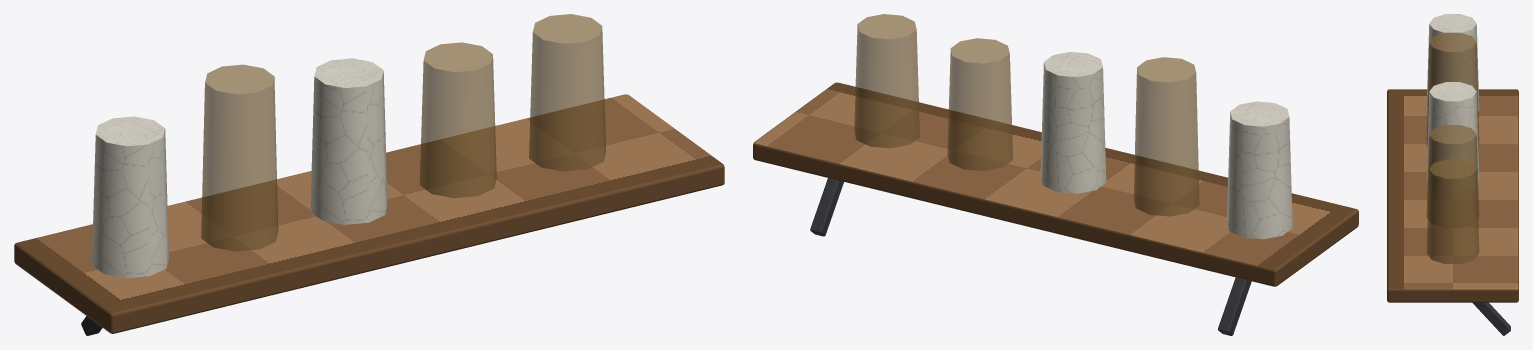
Rendered from wallShelf.glb.
The picture shows the model from 3 angles, left to right: view 1: azimuth 30°, elevation 25°; view 2: azimuth 150°, elevation 25°; view 3: azimuth 270°, elevation 25°; orthographic projection. The views are drawn at different scales.
Visible parts, largest first — view 1: dyn_wood_variant, wallShelf; view 2: dyn_wood_variant, wallShelf; view 3: dyn_wood_variant, wallShelf.
Boxes of the visible parts, bbox=[...] form: dyn_wood_variant: bbox=[14, 94, 724, 333]; wallShelf: bbox=[81, 14, 605, 335]; dyn_wood_variant: bbox=[753, 82, 1358, 286]; wallShelf: bbox=[810, 14, 1292, 335]; dyn_wood_variant: bbox=[1387, 89, 1518, 302]; wallShelf: bbox=[1426, 14, 1510, 335].
Size of the model in its own units: 0.9002 by 0.3587 by 0.2501.
Materials: 4 (3 with a texture image).
